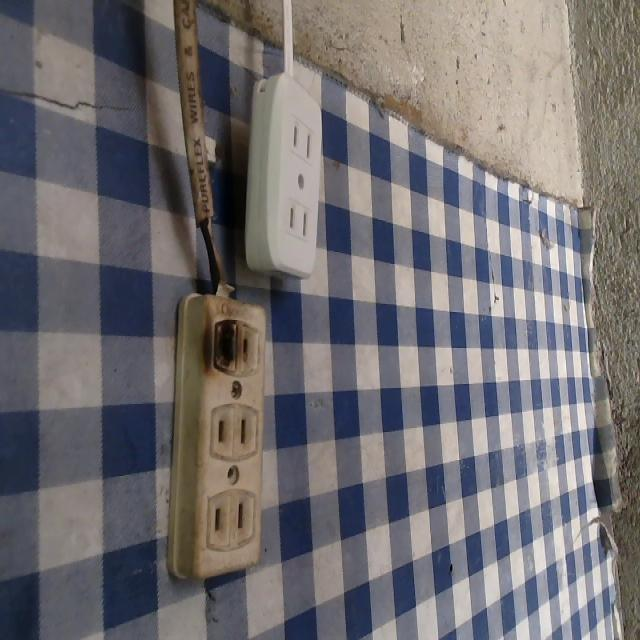-: (204, 315, 242, 380)
